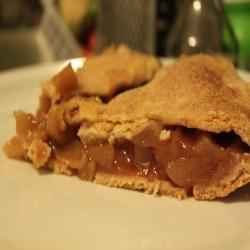apple_pie: (3, 40, 250, 209)
